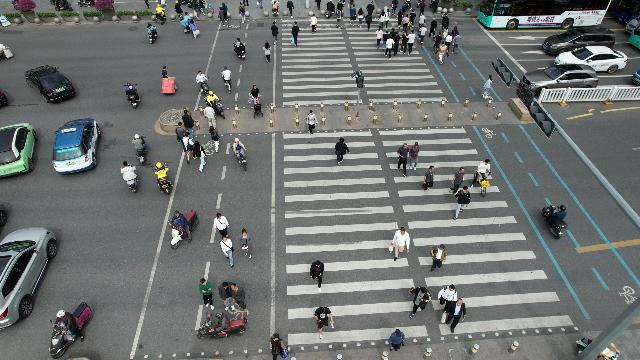non-motor-vehicle: (48, 302, 92, 354), (198, 310, 250, 342), (168, 210, 200, 250), (542, 201, 568, 241), (472, 156, 491, 195), (120, 161, 138, 197), (152, 162, 172, 194), (232, 137, 248, 171), (208, 92, 226, 118), (132, 133, 148, 162), (124, 82, 140, 110), (231, 38, 247, 60), (221, 66, 233, 94), (195, 70, 209, 94), (146, 22, 158, 44), (156, 4, 166, 24), (325, 0, 335, 18), (419, 25, 427, 46), (175, 1, 183, 19), (272, 1, 280, 18), (410, 9, 416, 29), (420, 13, 424, 27)
person: (446, 298, 466, 334), (391, 228, 411, 262), (314, 307, 334, 340), (410, 286, 430, 318), (430, 243, 448, 273), (454, 188, 472, 218), (310, 260, 326, 292), (199, 278, 215, 310), (240, 229, 256, 259), (234, 279, 248, 313), (250, 84, 264, 118), (439, 283, 457, 309), (270, 334, 288, 360), (212, 212, 230, 236), (220, 236, 233, 267), (388, 329, 406, 351), (397, 142, 408, 178), (194, 140, 206, 172), (182, 132, 194, 162), (336, 138, 349, 164), (220, 280, 232, 308), (204, 103, 216, 129), (451, 168, 464, 192), (208, 126, 220, 152), (306, 109, 318, 135), (424, 164, 434, 194), (410, 143, 420, 171), (182, 110, 194, 132), (483, 74, 492, 100), (189, 18, 199, 40), (409, 29, 417, 55), (452, 33, 462, 53), (271, 21, 279, 45), (291, 22, 299, 46), (385, 36, 393, 60), (356, 8, 366, 26), (263, 42, 271, 64), (438, 42, 446, 64), (238, 2, 246, 23), (434, 31, 442, 52), (193, 0, 201, 20), (349, 4, 356, 26), (286, 0, 294, 18), (395, 32, 401, 56), (365, 12, 373, 30), (429, 18, 436, 38), (440, 12, 450, 26), (376, 26, 382, 48), (402, 31, 408, 53), (336, 6, 342, 28), (402, 14, 410, 30), (175, 123, 182, 141), (311, 14, 317, 34), (160, 66, 170, 78), (443, 21, 451, 36), (396, 9, 402, 29), (218, 7, 224, 26), (446, 31, 452, 50), (222, 4, 228, 20), (392, 0, 398, 14), (386, 9, 390, 28), (451, 27, 459, 35), (381, 10, 385, 26), (336, 0, 342, 10), (420, 0, 424, 14), (402, 2, 406, 16), (384, 30, 388, 42), (391, 29, 395, 37)
